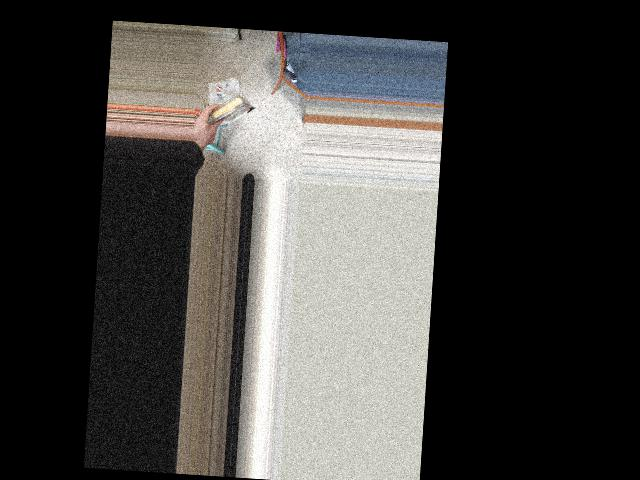cheese: (196, 91, 256, 131)
